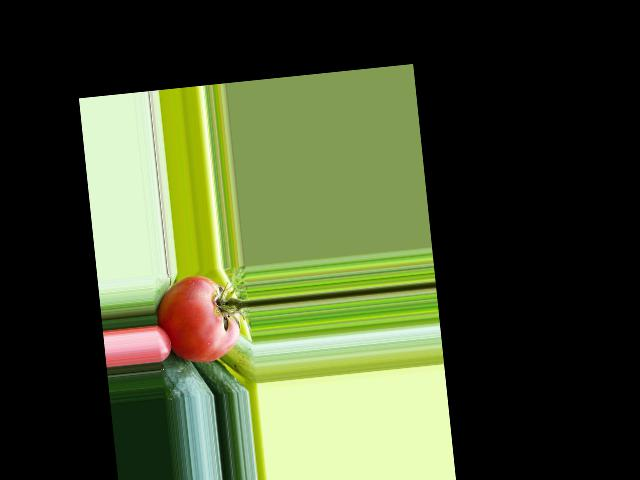tomato: (153, 271, 242, 366)
